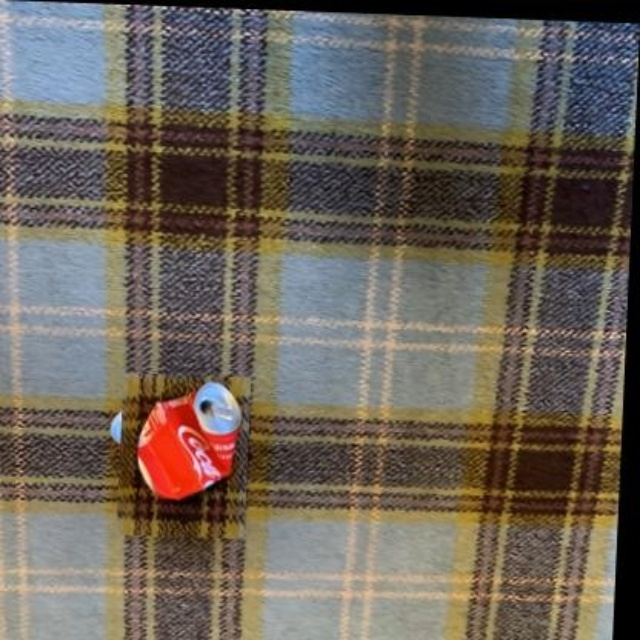trash: (137, 382, 242, 498), (137, 382, 240, 498)
